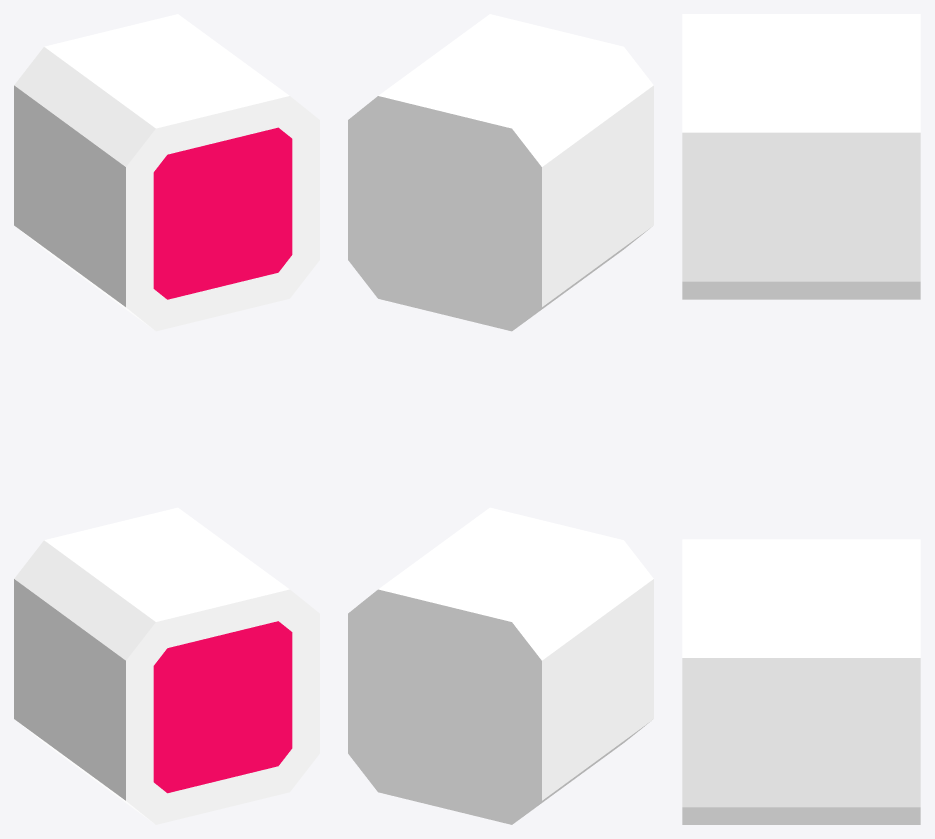
File: double_dot.glb
3 renders of one model, left to right at view 1: azimuth 30°, elevation 25°; view 2: azimuth 150°, elevation 25°; view 3: azimuth 270°, elevation 25°, orthographic. The views are drawn at different scales.
Visible parts, largest first — view 1: Cube.005, Cube.006; view 2: Cube.005, Cube.006; view 3: Cube.005, Cube.006.
Boxes of the visible parts, x1,y1,x2,y2 form: Cube.005: [14, 507, 319, 824]; Cube.006: [14, 14, 319, 331]; Cube.005: [348, 507, 653, 824]; Cube.006: [348, 14, 653, 331]; Cube.005: [682, 539, 920, 824]; Cube.006: [682, 14, 920, 299].
Size of the model in its own units: 0.1175 by 0.4034 by 0.1175.
1 material, 1 textured.
